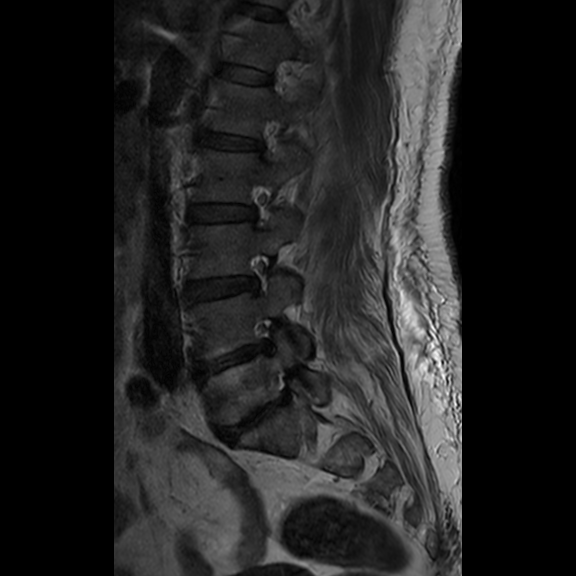RFS0: (240, 243, 278, 306), (248, 110, 286, 169), (243, 176, 278, 239)
RFS2: (245, 309, 285, 361)
